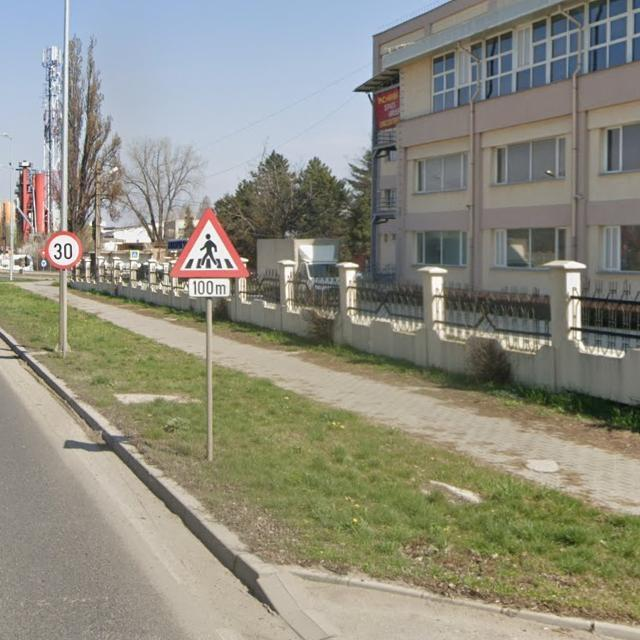forb_speed_over_30: (48, 233, 80, 271)
warn_crosswalk: (170, 209, 248, 278)
